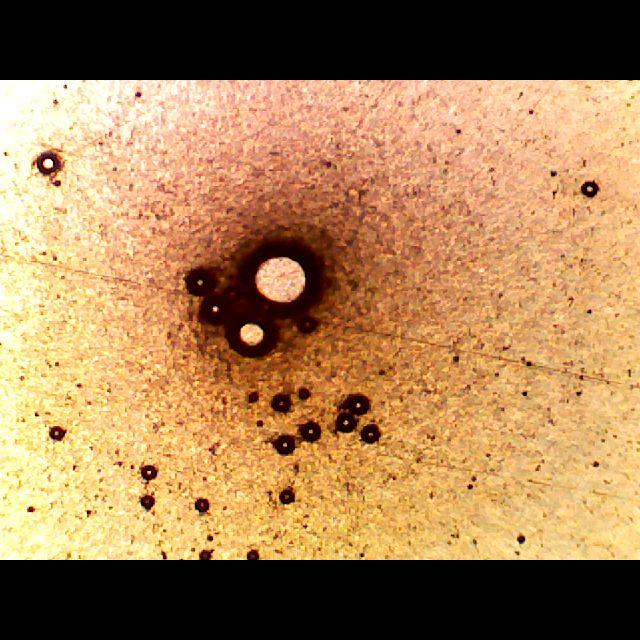microbeads: (34, 150, 64, 180), (580, 178, 602, 198), (138, 464, 158, 482), (138, 493, 156, 511), (47, 426, 67, 442), (192, 498, 210, 514)
